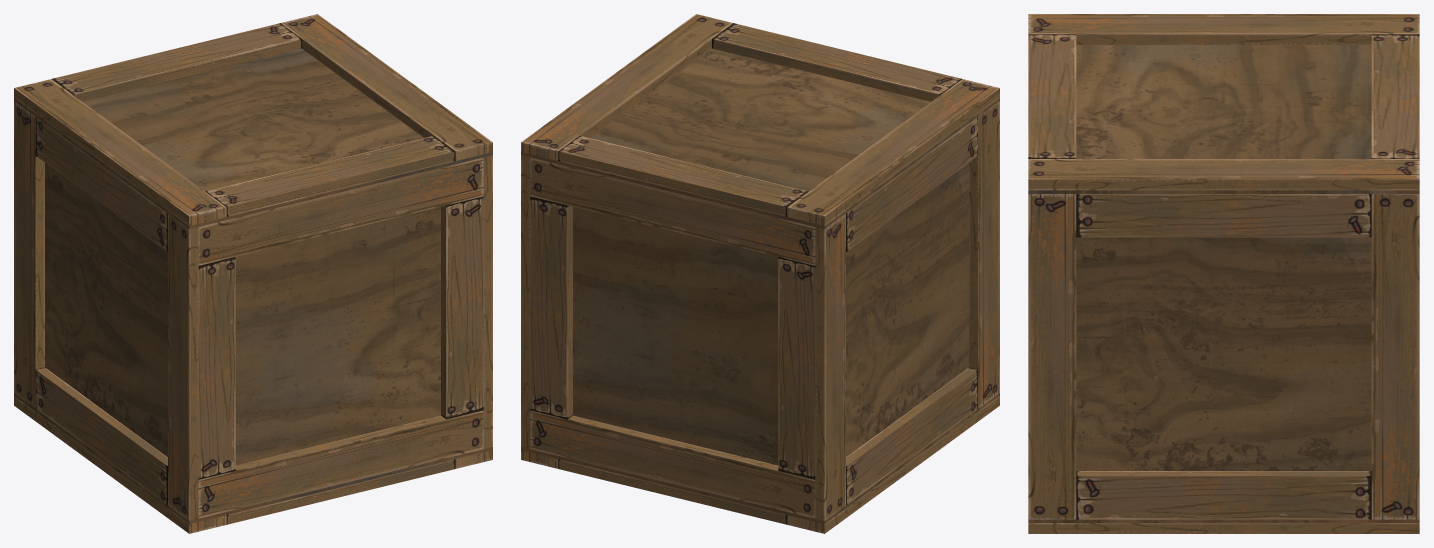
File: crate04.FBX
3 views of the same model, side by side, from view 1: azimuth 30°, elevation 25°; view 2: azimuth 150°, elevation 25°; view 3: azimuth 270°, elevation 25° (orthographic). The views are drawn at different scales.
Visible parts, largest first — view 1: crate04, crate04_lid; view 2: crate04, crate04_lid; view 3: crate04, crate04_lid.
Boxes of the visible parts, box(x1,y1,x2,y2) form: crate04: box(14, 101, 492, 533); crate04_lid: box(14, 14, 492, 229); crate04: box(521, 101, 999, 533); crate04_lid: box(521, 14, 999, 229); crate04: box(1028, 194, 1419, 533); crate04_lid: box(1028, 14, 1419, 193).
Bounding box in the file's own units: 98 × 98 × 98.
